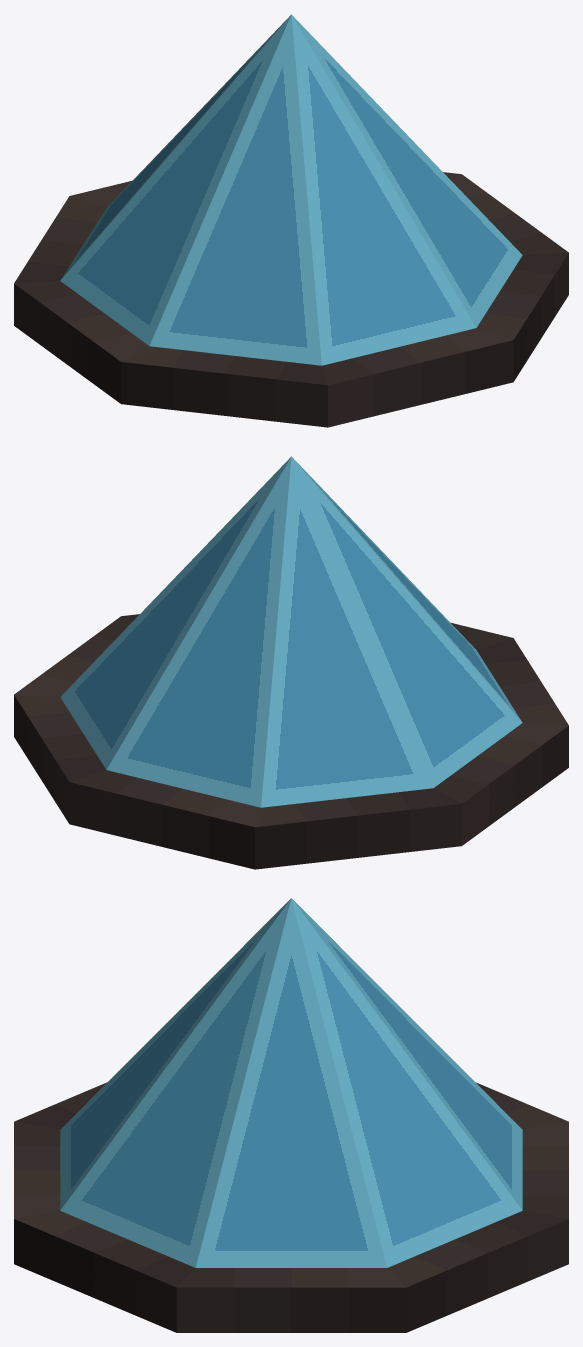
File: prism_octagon.obj
3 views of the same model, one above another, from view 1: azimuth 30°, elevation 25°; view 2: azimuth 150°, elevation 25°; view 3: azimuth 270°, elevation 25° (orthographic). The views are drawn at different scales.
Parts seen in each view (by area): view 1: OCTAGON_PRISM_PEDESTAL_Cylinder.002, OCTAGON_BASE_PEDESTAL_Cylinder.001; view 2: OCTAGON_PRISM_PEDESTAL_Cylinder.002, OCTAGON_BASE_PEDESTAL_Cylinder.001; view 3: OCTAGON_PRISM_PEDESTAL_Cylinder.002, OCTAGON_BASE_PEDESTAL_Cylinder.001.
Part boxes in pixels (x1,y1,x2,y2): OCTAGON_PRISM_PEDESTAL_Cylinder.002: [60, 14, 522, 365]; OCTAGON_BASE_PEDESTAL_Cylinder.001: [14, 172, 568, 427]; OCTAGON_PRISM_PEDESTAL_Cylinder.002: [60, 456, 522, 807]; OCTAGON_BASE_PEDESTAL_Cylinder.001: [14, 614, 568, 869]; OCTAGON_PRISM_PEDESTAL_Cylinder.002: [60, 898, 522, 1267]; OCTAGON_BASE_PEDESTAL_Cylinder.001: [14, 1082, 568, 1332].
Bounding box in the file's own units: 0.6929 × 0.4375 × 0.6929.
